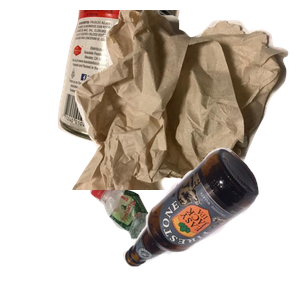glass: (120, 145, 300, 300)
metal: (55, 10, 227, 149)
plastic: (87, 178, 234, 300)
trash: (70, 10, 300, 190)
